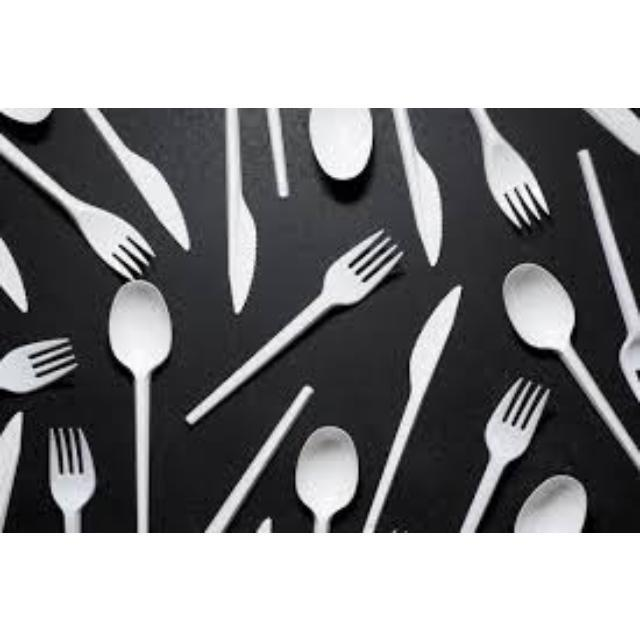Plastico descartable: (186, 229, 404, 424), (502, 262, 640, 471), (362, 285, 462, 532), (109, 280, 172, 532), (86, 109, 190, 250), (460, 378, 550, 532), (470, 109, 550, 229), (394, 109, 442, 266), (227, 109, 256, 314), (309, 109, 371, 181)
